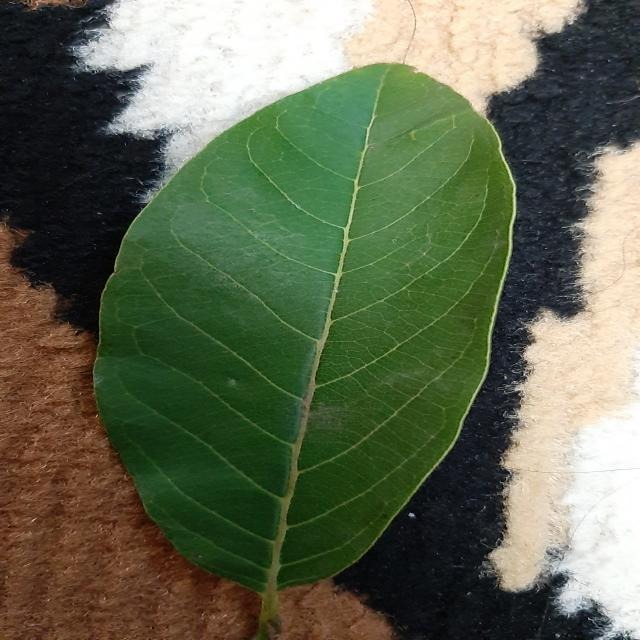seethaphala: (95, 65, 515, 640)
